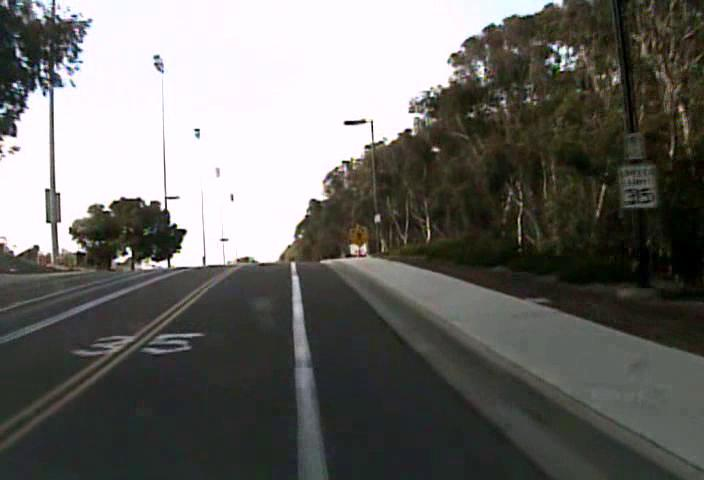speedLimit35: (617, 162, 658, 208)
